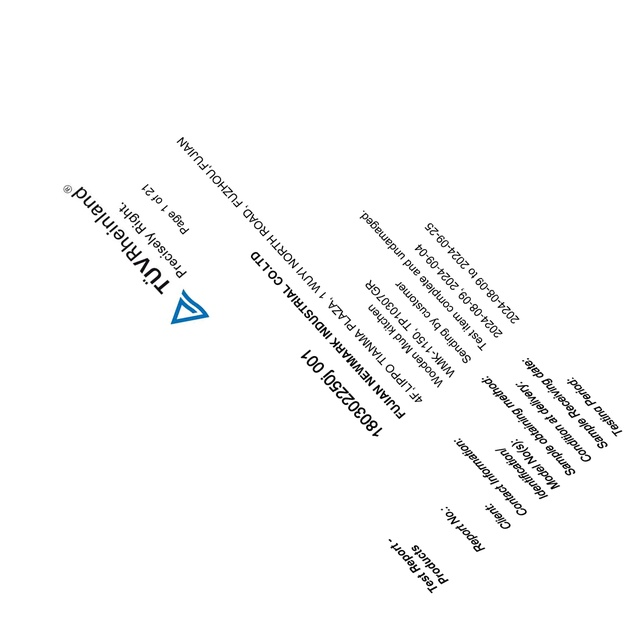tuv_rheinland: (62, 181, 212, 328)
